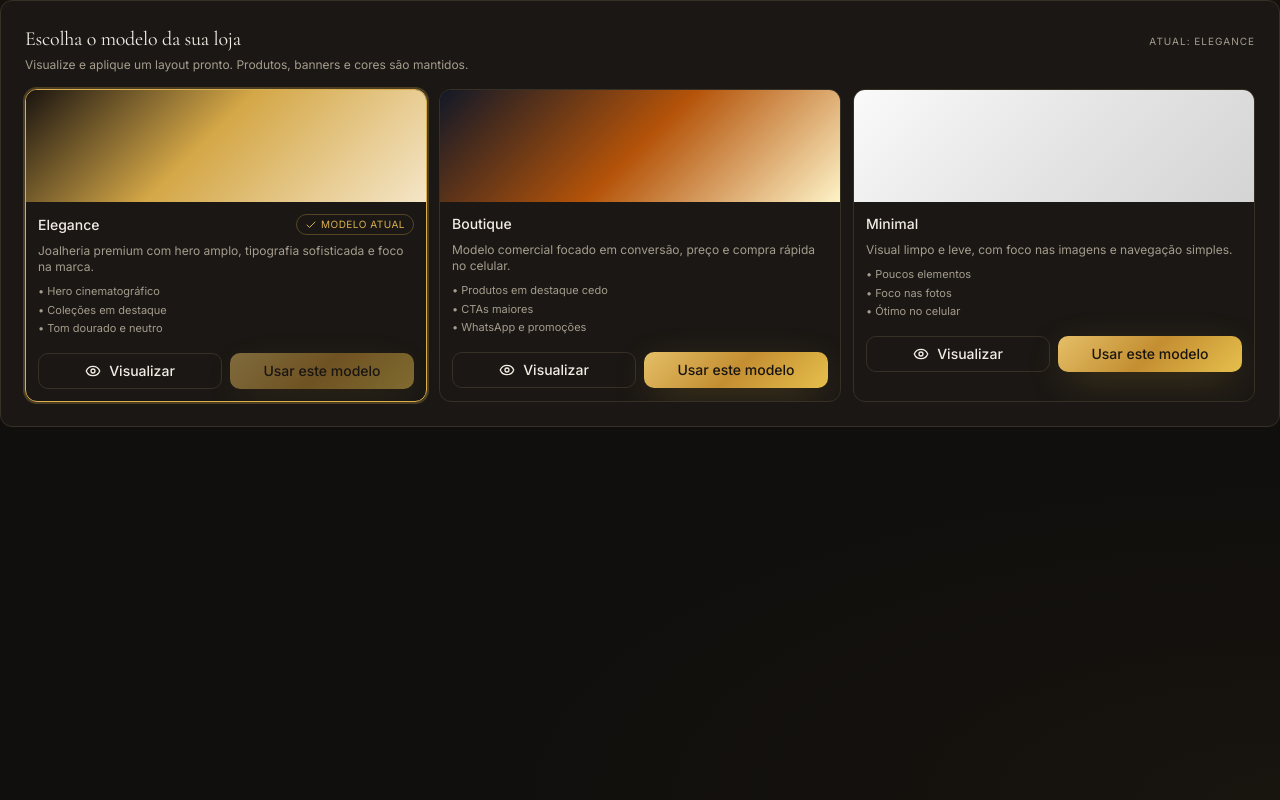
store templates — prévia mobile responsiva › preview mobile usa viewport limitada entre 360 e 390
The image size is (1280, 800).
Step 1. Click the button with test id "store-template-preview-elegance" → [130, 370], box [38,352,222,388]
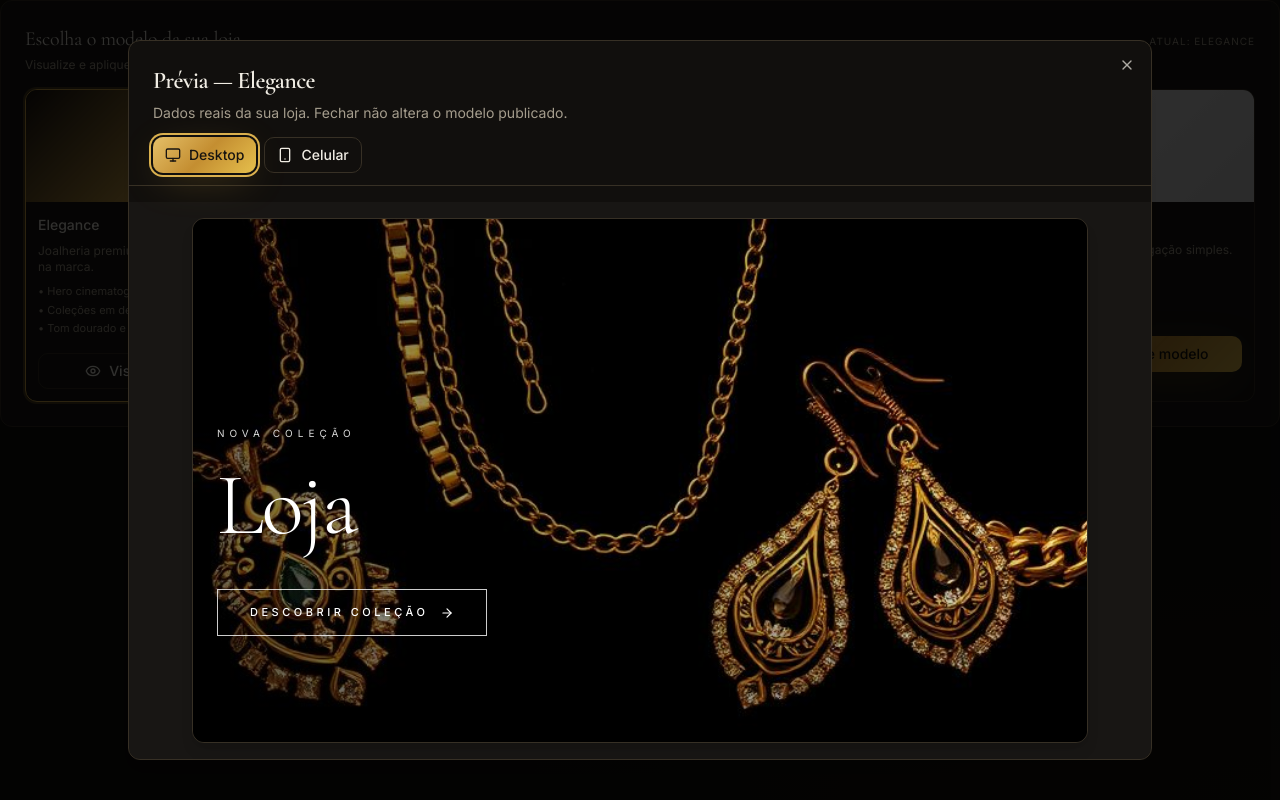
expect the dialog with test id "store-template-preview-dialog" is shown: met
Step 2. Click the button "Celular" → [313, 155], box [264,137,362,173]
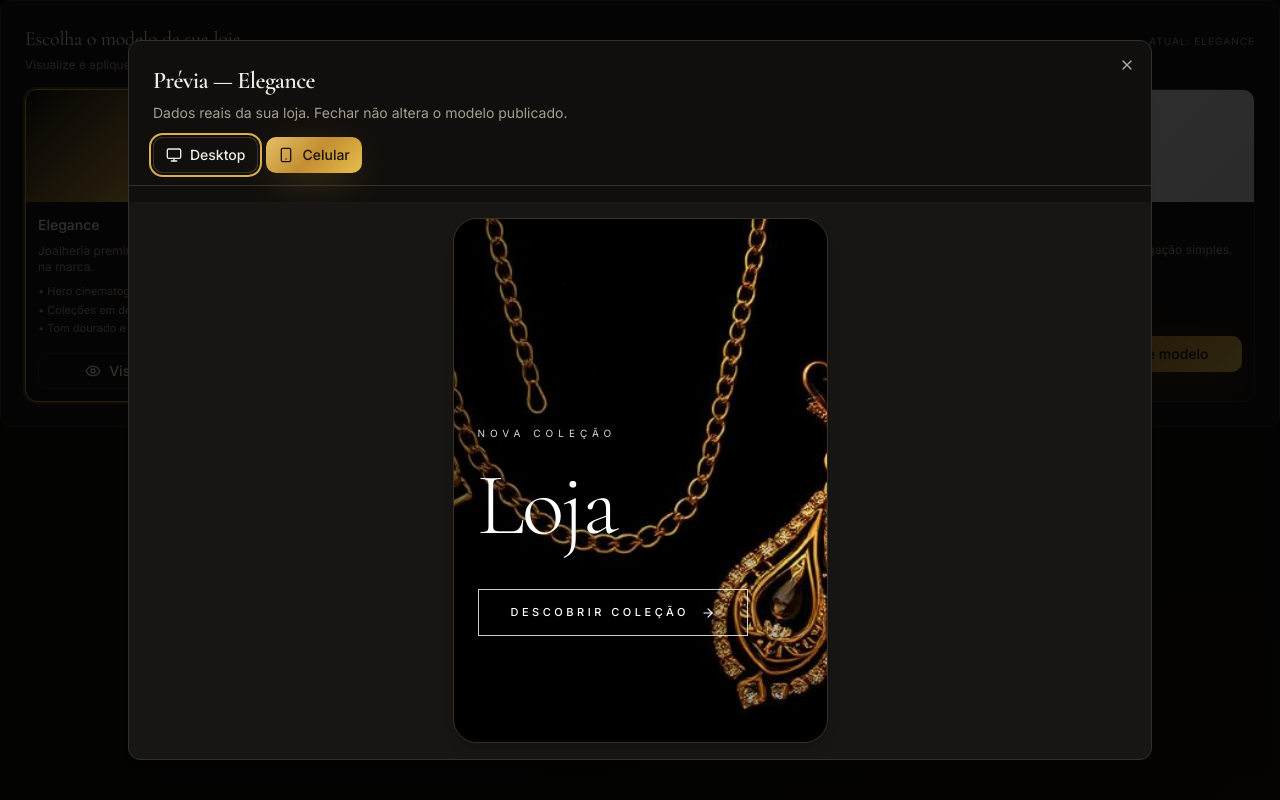
expect the element with test id "store-template-preview-frame" has attribute data-preview-device="mobile": met, box [452,218,828,743]
expect the element with test id "store-template-preview-frame" has attribute data-preview-viewport="375": met, box [452,218,828,743]
